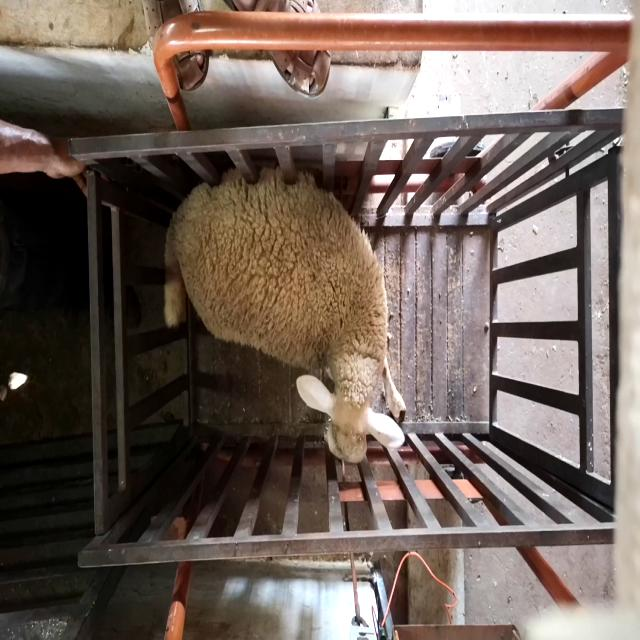sheep: (165, 166, 406, 462)
